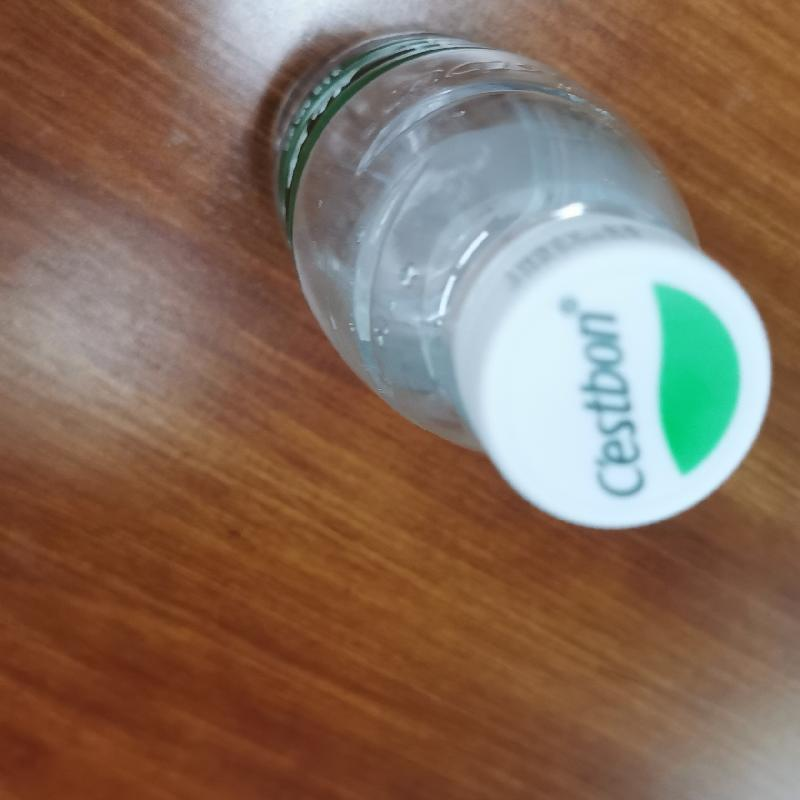bottles: (257, 21, 781, 537)
